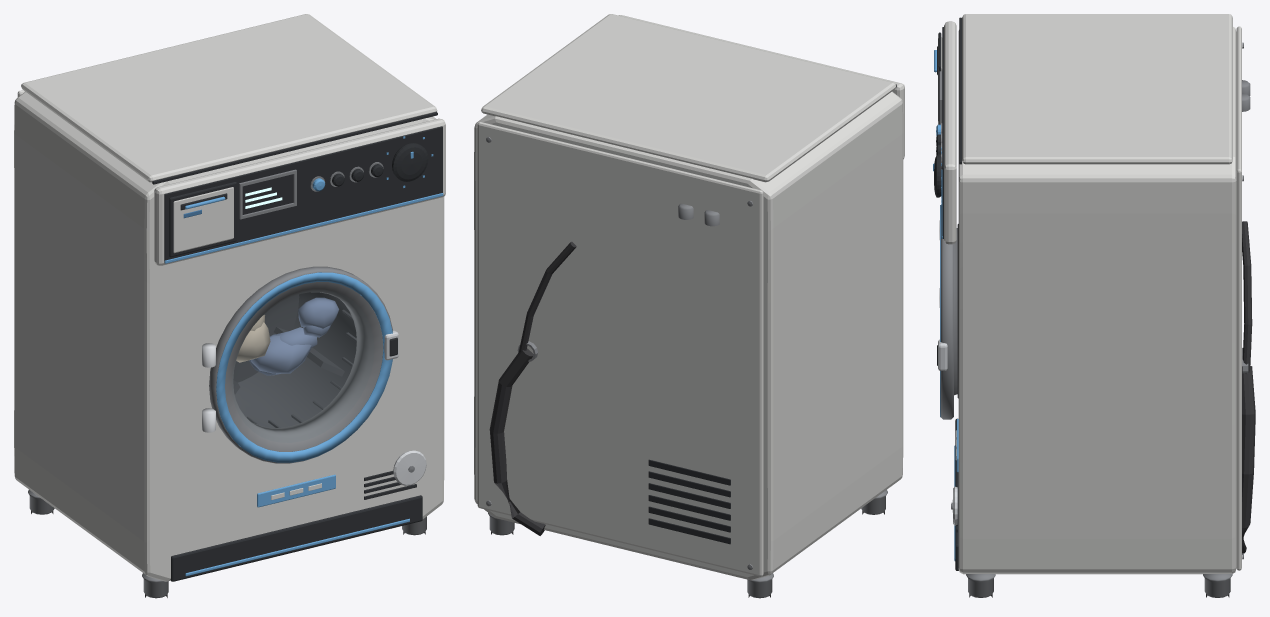
File: WasherDetailed.fbx
The picture shows the model from 3 angles, left to right: view 1: azimuth 30°, elevation 25°; view 2: azimuth 150°, elevation 25°; view 3: azimuth 270°, elevation 25°; orthographic projection. The views are drawn at different scales.
Parts seen in each view (by area): view 1: Washer_Body, Washer_Panel, Washer_Glass, Washer_Metal, Washer_Accent, Washer_Drum, Washer_Cloth, Washer_Chrome, Washer_ClothAlt; view 2: Washer_Body, Washer_Rubber, Washer_Panel, Washer_Metal; view 3: Washer_Body, Washer_Metal, Washer_Rubber, Washer_Panel, Washer_Accent, Washer_Chrome.
Part boxes in pixels (x1,y1,x2,y2): Washer_Body: (14,14,445,581); Washer_Panel: (152,112,442,581); Washer_Glass: (232,290,374,442); Washer_Metal: (28,162,426,598); Washer_Accent: (164,136,443,576); Washer_Drum: (233,292,356,427); Washer_Cloth: (249,297,338,375); Washer_Chrome: (202,330,426,485); Washer_ClothAlt: (236,314,270,362); Washer_Body: (474,14,904,580); Washer_Rubber: (489,241,884,597); Washer_Panel: (648,84,896,544); Washer_Metal: (486,137,887,598); Washer_Body: (938,14,1241,574); Washer_Metal: (939,42,1250,597); Washer_Rubber: (957,221,1255,597); Washer_Panel: (934,17,1242,570); Washer_Accent: (933,50,958,560); Washer_Chrome: (938,220,957,525).
Bounding box in the file's own units: 0.8 × 1.1 × 0.7195.
